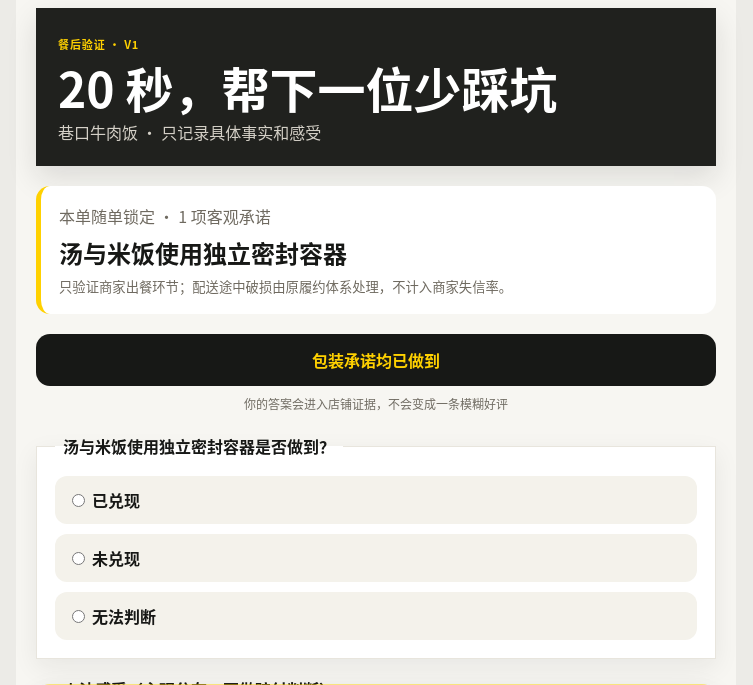
Test: requires a note when the user reports an unfulfilled promise
Expected: the heading "20 秒，帮下一位少踩坑" is shown, [58,52,558,122]
Click the radio button labelled "未兑现": (78, 559) [72,552,85,565]
(page scrolled)
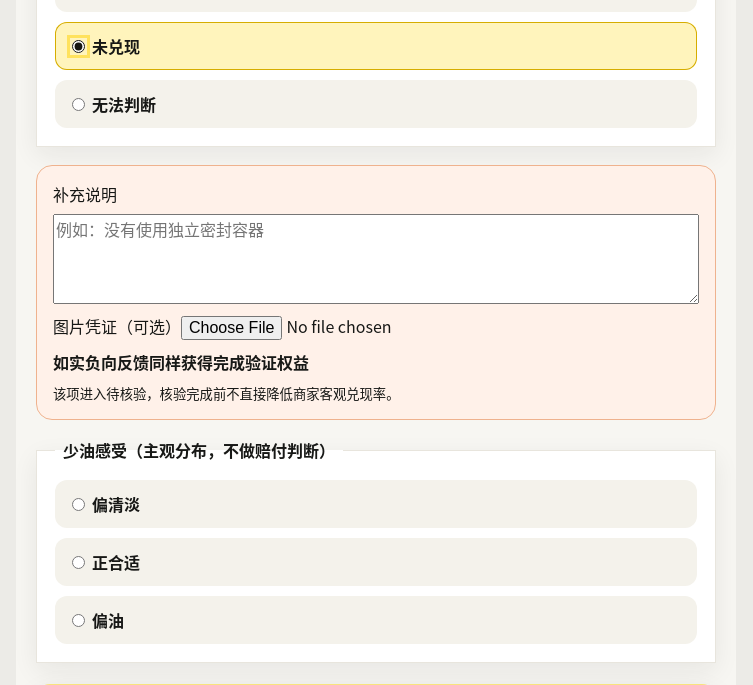
Expected: the text box labelled "补充说明" is shown, [53,214,699,304]
Expected: the text "如实负向反馈同样获得完成验证权益" is shown, [53,350,309,374]
